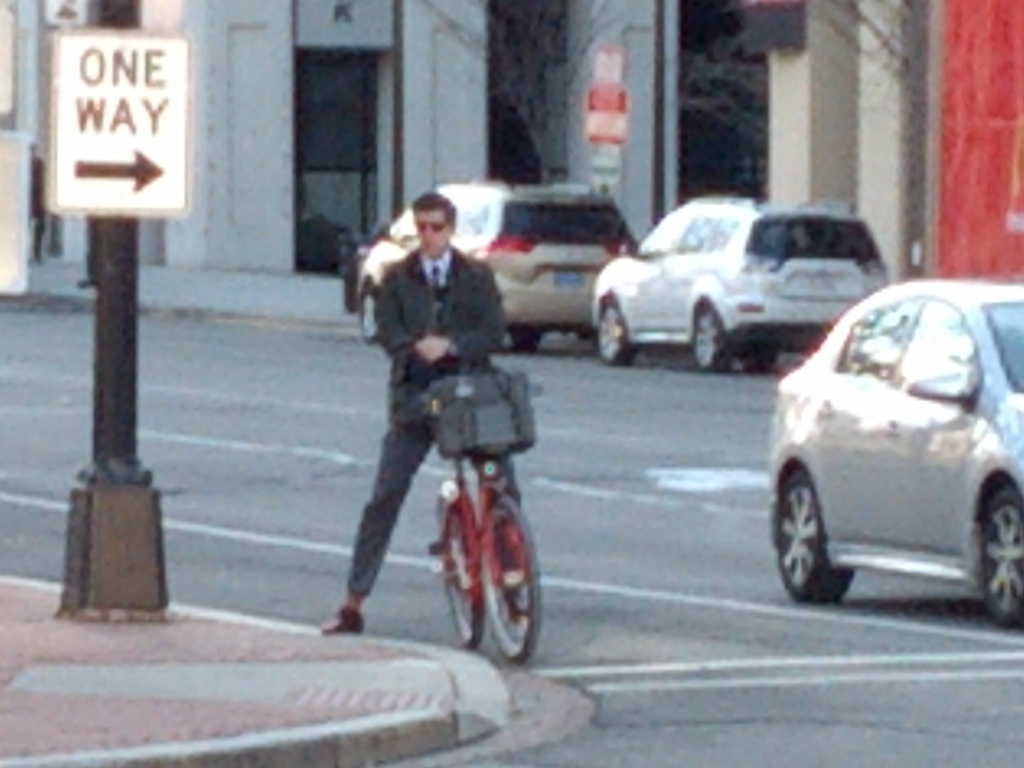Bike: (386, 369, 563, 687)
